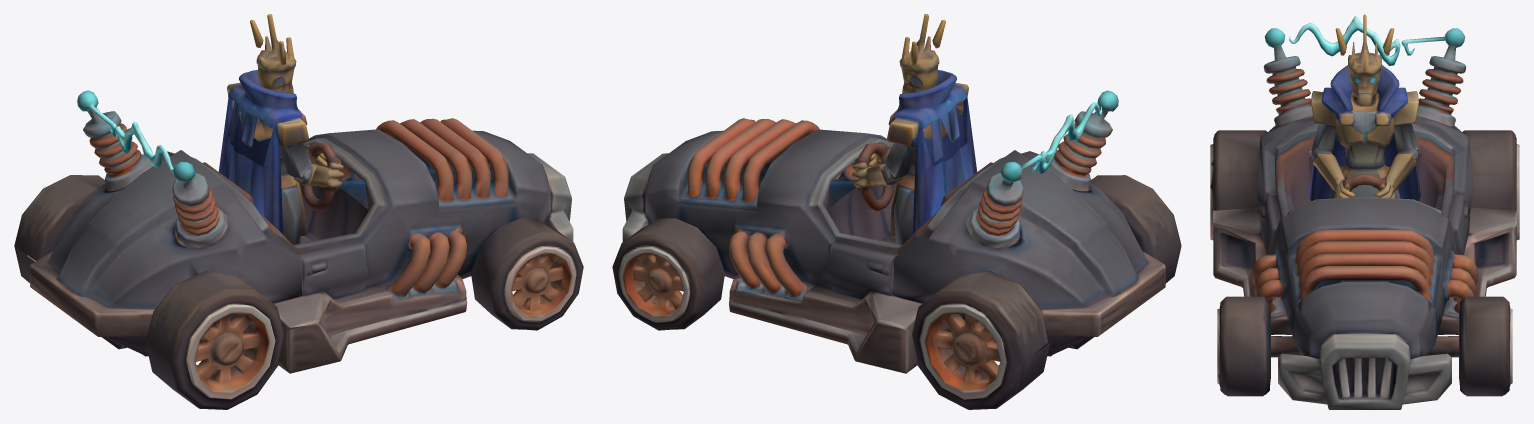
The model's file is model_url.glb.
The picture shows the model from 3 angles, left to right: view 1: azimuth 30°, elevation 25°; view 2: azimuth 150°, elevation 25°; view 3: azimuth 270°, elevation 25°; orthographic projection. The views are drawn at different scales.
Parts seen in each view (by area): view 1: tripo_node_7274630e-b6b5-4b59-b6ac-9cf3b2ee6bd0; view 2: tripo_node_7274630e-b6b5-4b59-b6ac-9cf3b2ee6bd0; view 3: tripo_node_7274630e-b6b5-4b59-b6ac-9cf3b2ee6bd0.
Boxes of the visible parts, x1=… form: tripo_node_7274630e-b6b5-4b59-b6ac-9cf3b2ee6bd0: x1=14, y1=14, x2=583, y2=409; tripo_node_7274630e-b6b5-4b59-b6ac-9cf3b2ee6bd0: x1=612, y1=14, x2=1181, y2=409; tripo_node_7274630e-b6b5-4b59-b6ac-9cf3b2ee6bd0: x1=1210, y1=14, x2=1519, y2=409.
Size of the model in its own units: 1 by 0.6067 by 0.589.
1 material, 1 textured.
